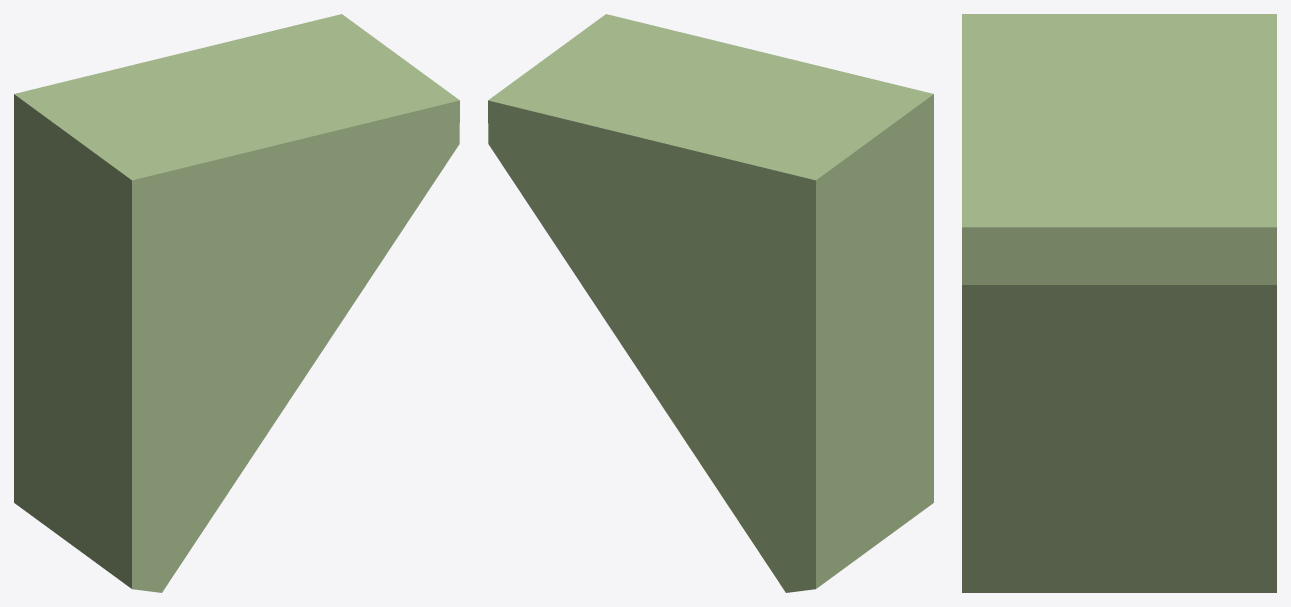
The model's file is stone_element_24d_wall.fbx.
The picture shows the model from 3 angles, left to right: view 1: azimuth 30°, elevation 25°; view 2: azimuth 150°, elevation 25°; view 3: azimuth 270°, elevation 25°; orthographic projection. The views are drawn at different scales.
Parts seen in each view (by area): view 1: stone_element_24d_wall; view 2: stone_element_24d_wall; view 3: stone_element_24d_wall.
Part boxes in pixels (bbox=[...]): stone_element_24d_wall: bbox=[14, 14, 459, 592]; stone_element_24d_wall: bbox=[488, 14, 933, 592]; stone_element_24d_wall: bbox=[962, 14, 1276, 592].
Size of the model in its own units: 191 by 234 by 119.
